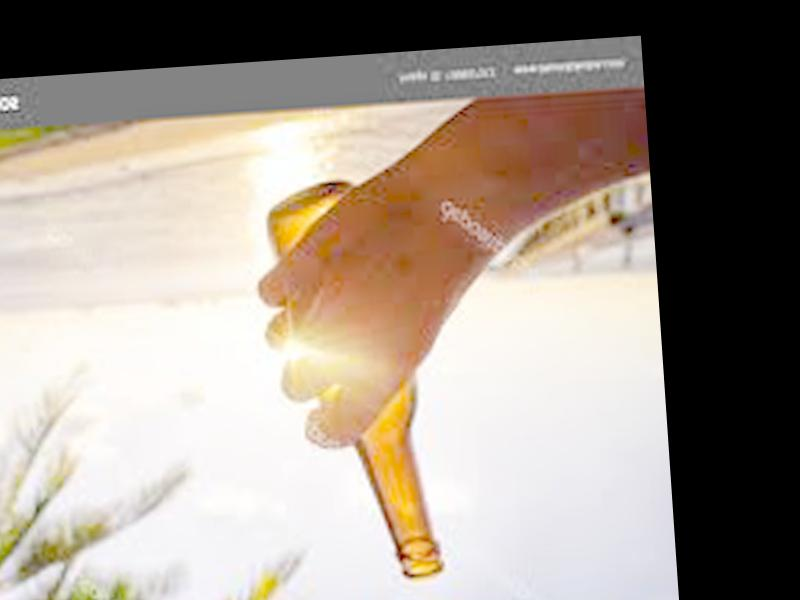Beer: (264, 175, 446, 588)
